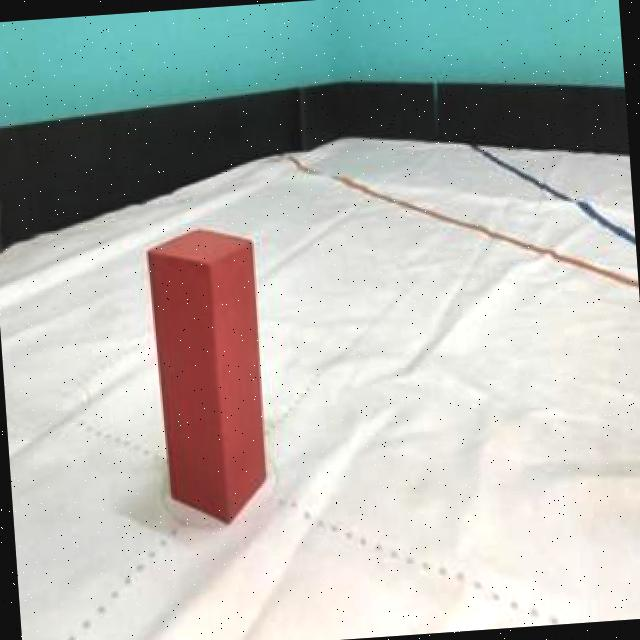redbox: (142, 225, 273, 530)
